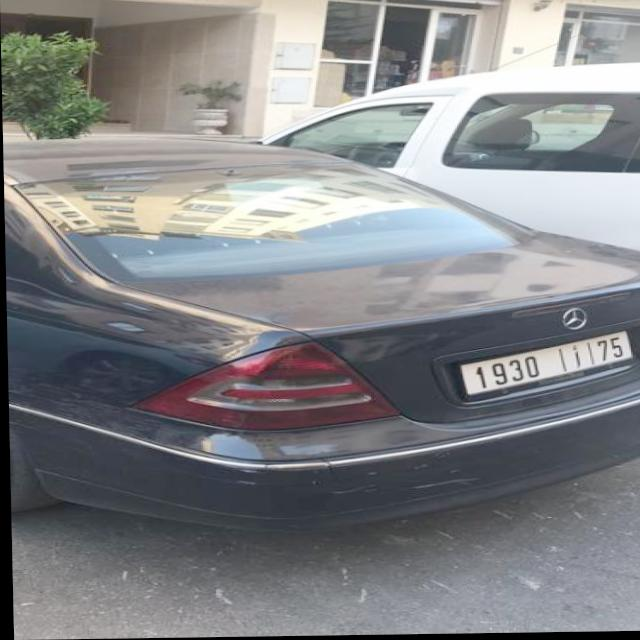License-Plate: (461, 333, 628, 396)
